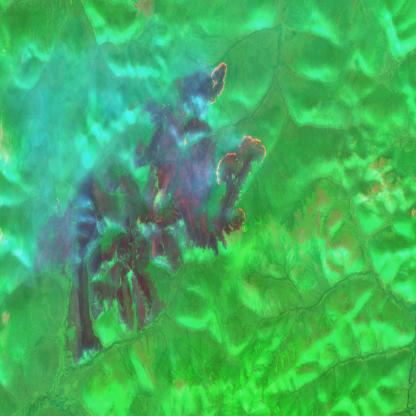fire: (207, 132, 274, 238), (190, 54, 247, 112)
